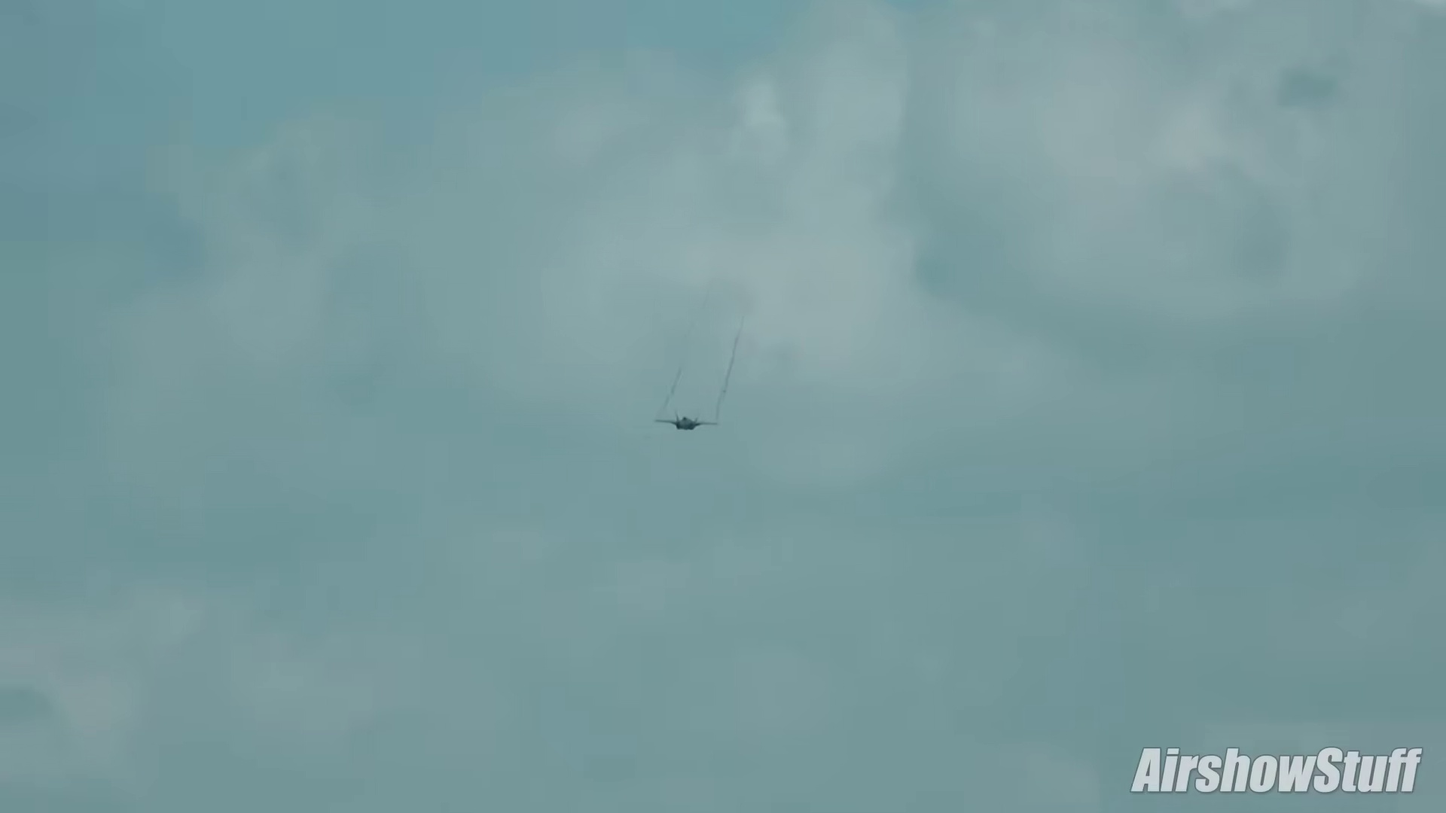F35: (653, 410, 719, 432)
